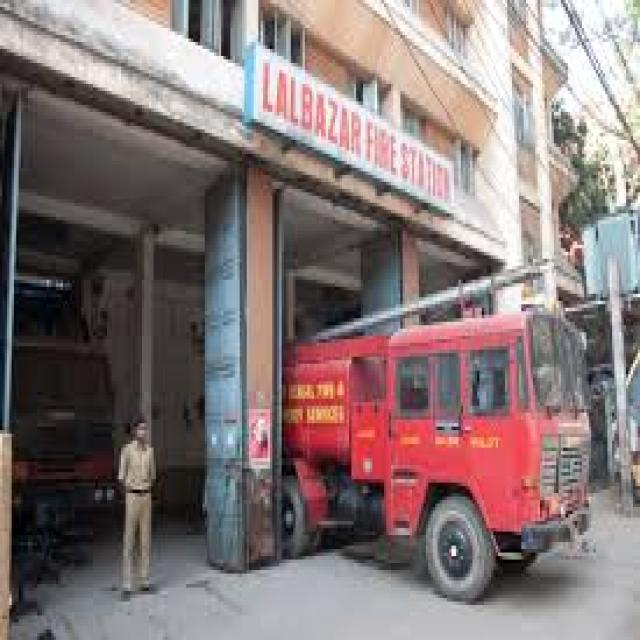Fire_brigade: (293, 308, 596, 598)
